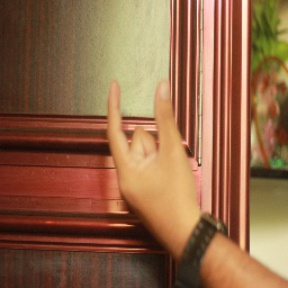U: (98, 74, 194, 204)
